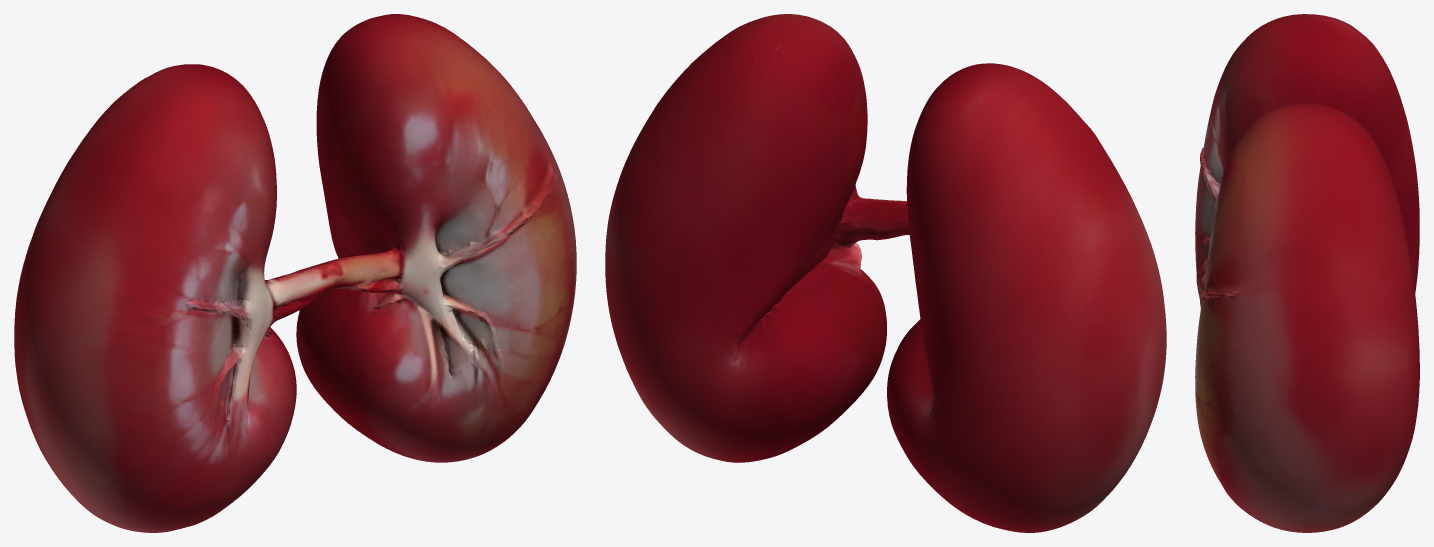
File: cat_kidney.glb
The picture shows the model from 3 angles, left to right: view 1: azimuth 30°, elevation 25°; view 2: azimuth 150°, elevation 25°; view 3: azimuth 270°, elevation 25°; orthographic projection. The views are drawn at different scales.
Visible parts, largest first — view 1: model; view 2: model; view 3: model.
Boxes of the visible parts, <box> form: model: <box>14,14,576,532</box>; model: <box>605,14,1166,532</box>; model: <box>1195,14,1419,532</box>.
Bounding box in the file's own units: 1.9 × 1.51 × 0.7805.
Materials: 1 (1 with a texture image).
